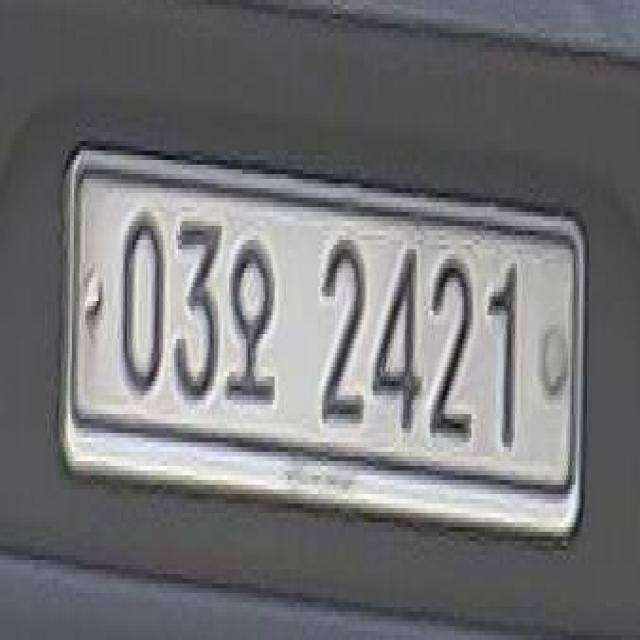illegal_plate: (69, 154, 588, 555)
